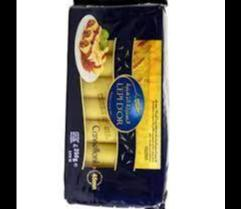Cannelloni: (66, 0, 165, 206)
